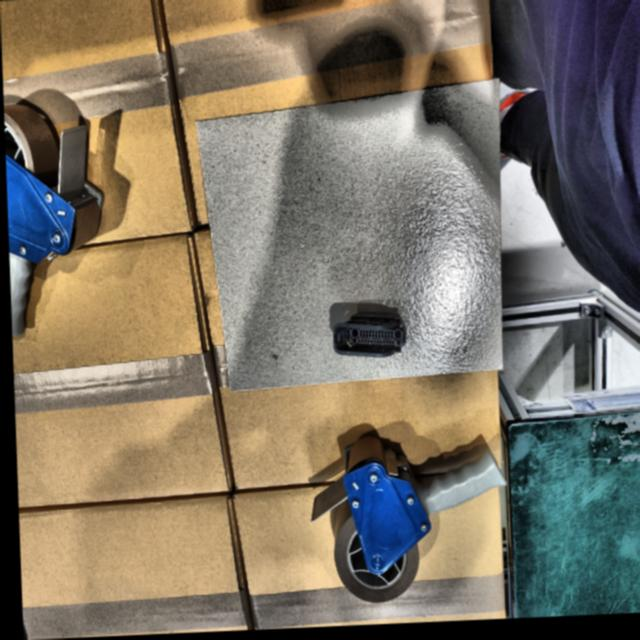P38: (331, 314, 403, 360)
